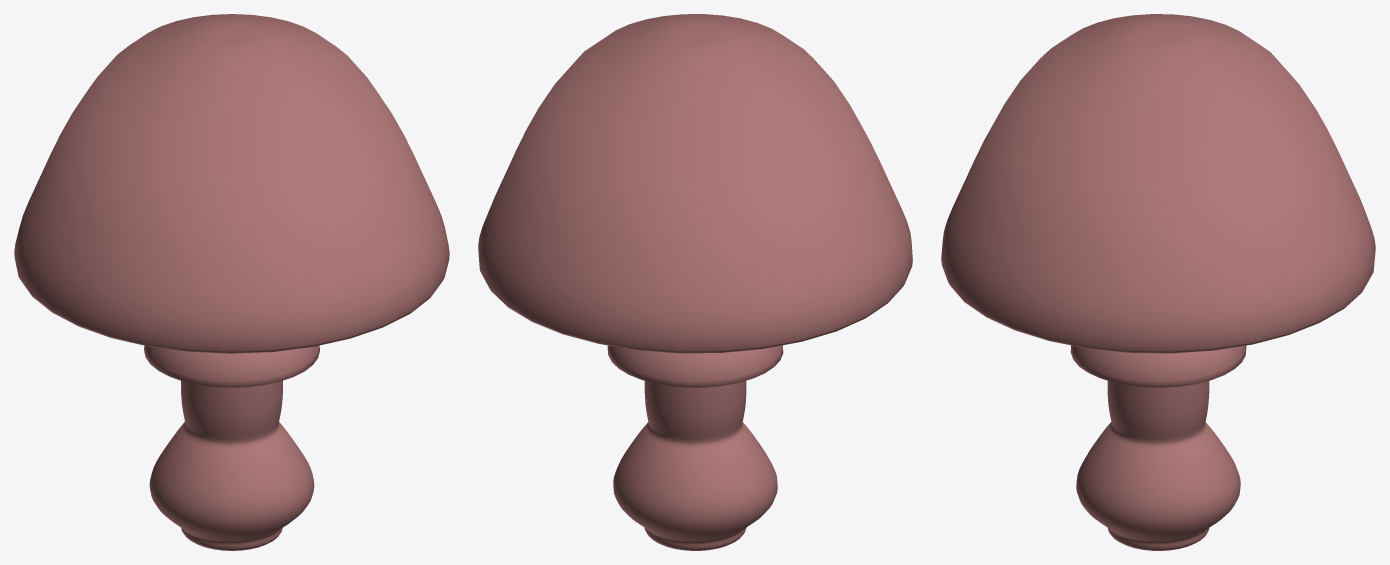
File: Mushroom1.fbx
3 views of the same model, side by side, from view 1: azimuth 30°, elevation 25°; view 2: azimuth 150°, elevation 25°; view 3: azimuth 270°, elevation 25° (orthographic).
Parts seen in each view (by area): view 1: mushroom1; view 2: mushroom1; view 3: mushroom1.
Part boxes in pixels (x1=…): mushroom1: x1=14, y1=14, x2=449, y2=550; mushroom1: x1=478, y1=14, x2=912, y2=550; mushroom1: x1=941, y1=14, x2=1375, y2=550.
Bounding box in the file's own units: 0.3053 × 0.3885 × 0.3053.
